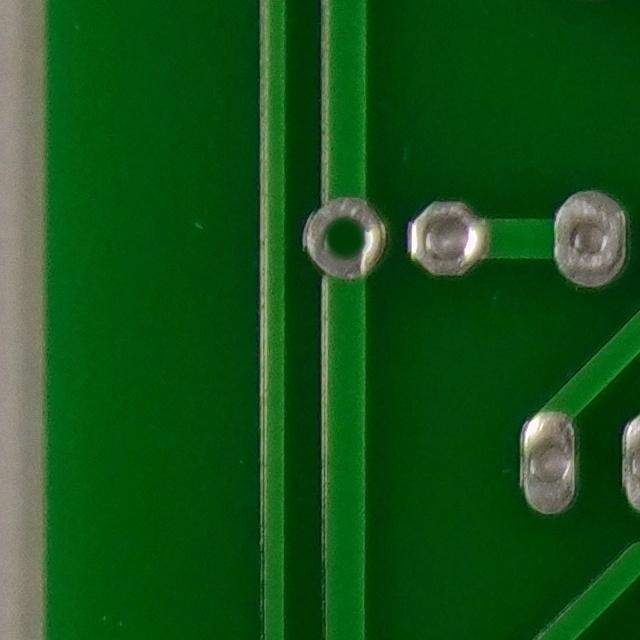missing_hole: (294, 200, 389, 284)
